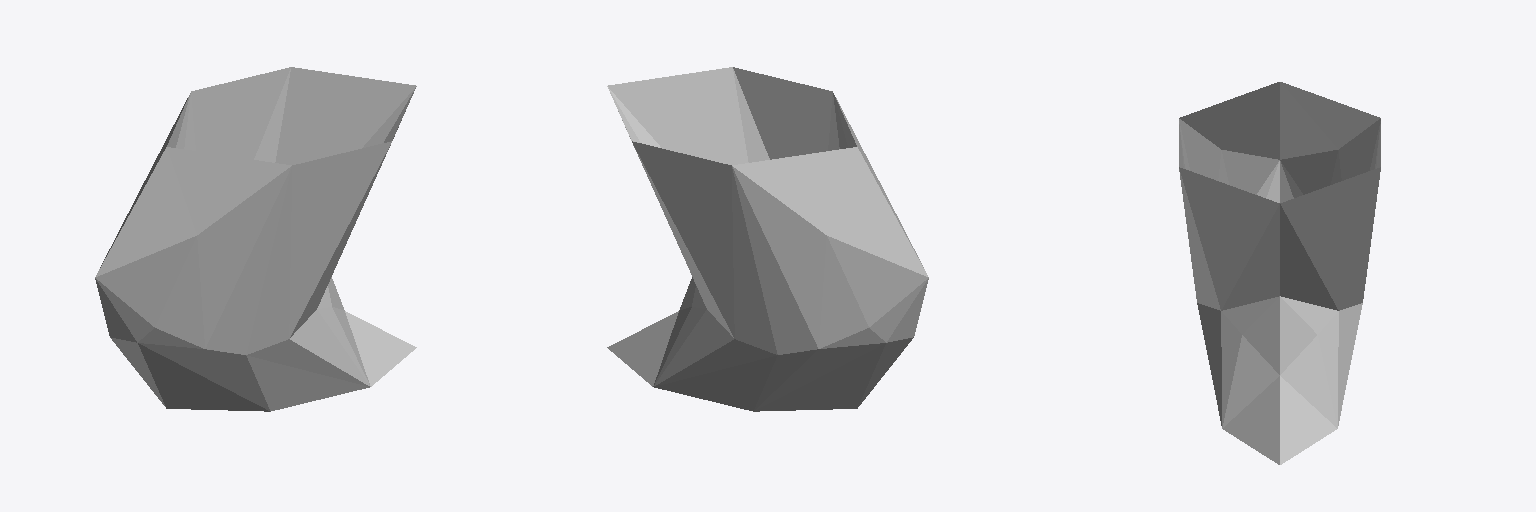
File: carbon_foot_mid.obj
The picture shows the model from 3 angles: view 1: azimuth 30°, elevation 25°; view 2: azimuth 150°, elevation 25°; view 3: azimuth 270°, elevation 25°; orthographic projection.
Parts seen in each view (by area): view 1: CarbonFootMid; view 2: CarbonFootMid; view 3: CarbonFootMid.
Boxes of the visible parts, x1,y1,x2,y2 form: CarbonFootMid: [95, 67, 416, 411]; CarbonFootMid: [607, 67, 928, 411]; CarbonFootMid: [1179, 82, 1380, 464].
Bounding box in the file's own units: 2.57 × 2 × 1.4.